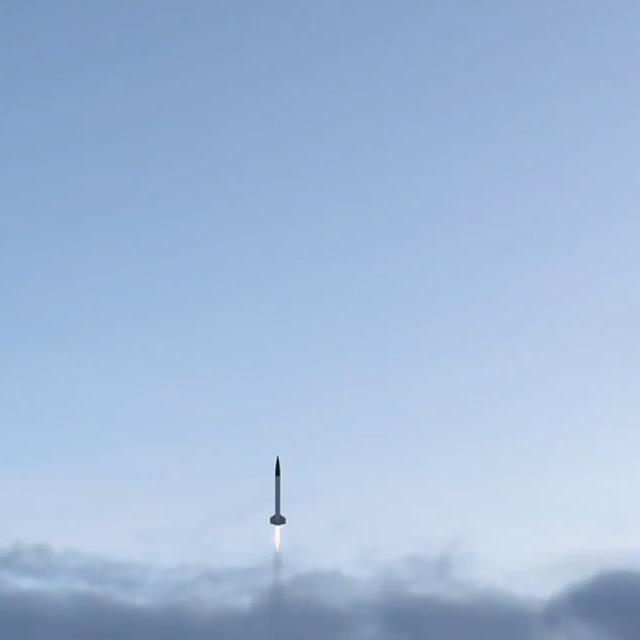rocket: (270, 458, 285, 554)
